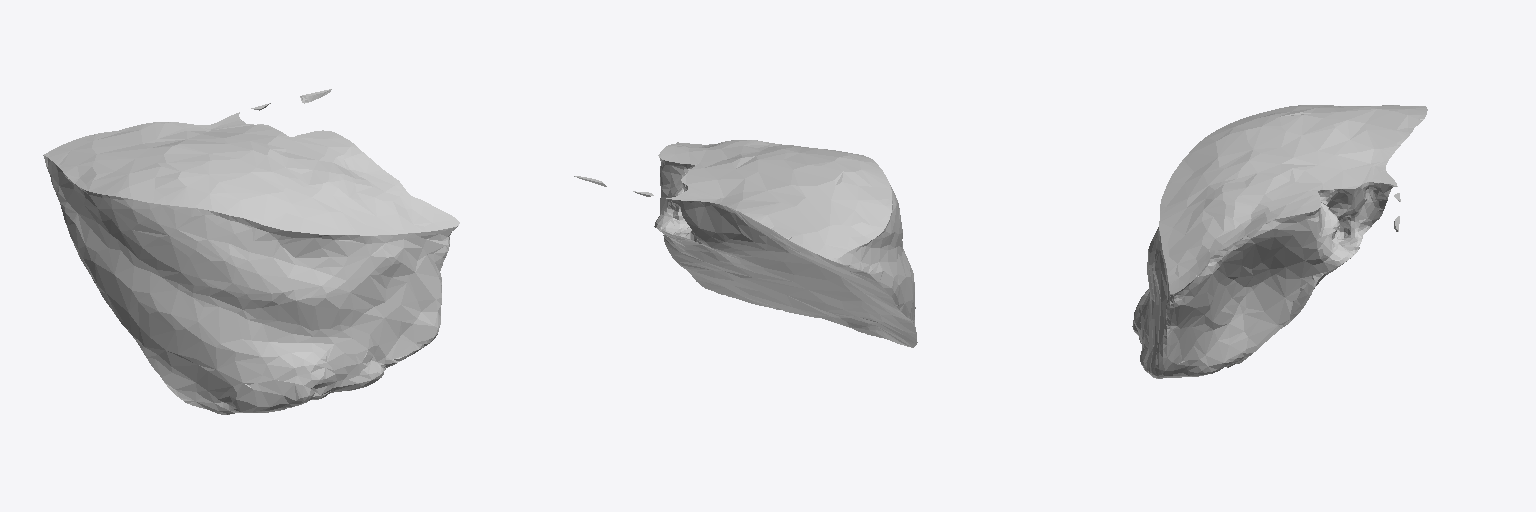
3 renders of one model, left to right at view 1: azimuth 30°, elevation 25°; view 2: azimuth 150°, elevation 25°; view 3: azimuth 270°, elevation 25°, orthographic.
Visible parts, largest first — view 1: Polygonal_Model_3_Triangles_0; view 2: Polygonal_Model_3_Triangles_0; view 3: Polygonal_Model_3_Triangles_0.
Boxes of the visible parts, <box> form: Polygonal_Model_3_Triangles_0: <box>43,89,459,414</box>; Polygonal_Model_3_Triangles_0: <box>574,140,917,347</box>; Polygonal_Model_3_Triangles_0: <box>1132,105,1427,378</box>.
Bounding box in the file's own units: 5.18 × 3.41 × 4.39.